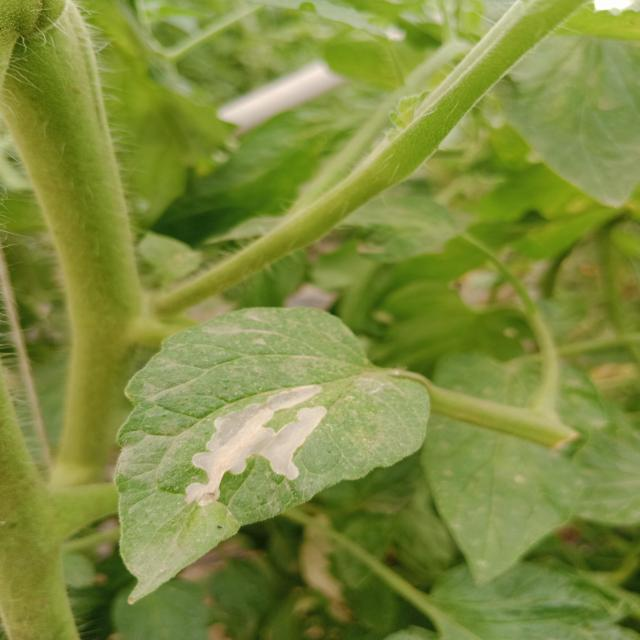Tuta absoluta: (161, 376, 352, 516)
